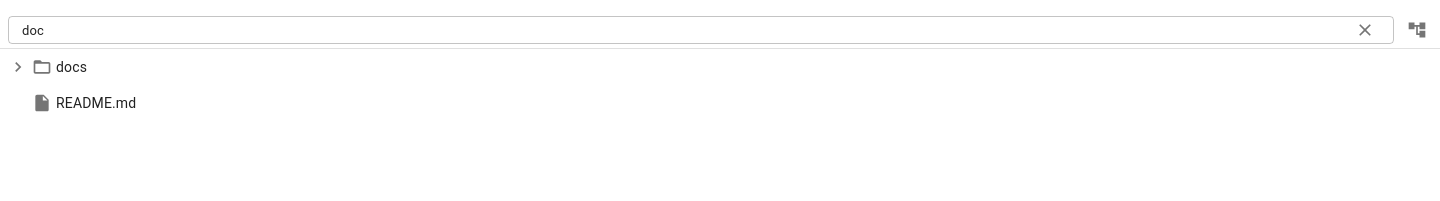
Test case: Sidebar › filter does not affect children of expanded dirs
Click the button with test id "sidebar-dir-docs": (48, 67) [8,57,87,77]
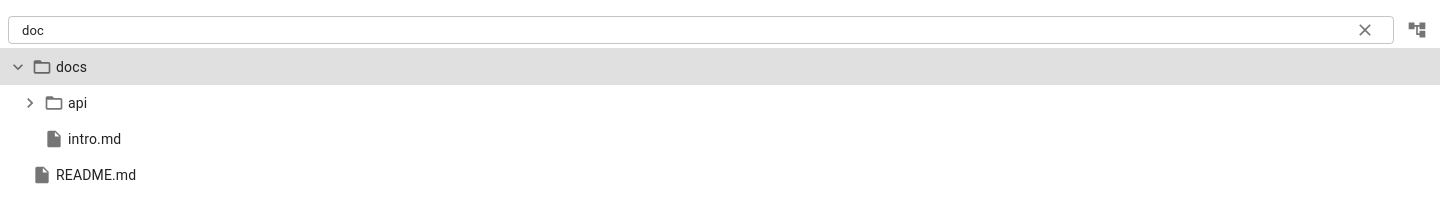
Now the button with test id "sidebar-file-docs/intro.md" is shown, box [44,129,121,149]
Now the button with test id "sidebar-dir-docs/api" is shown, box [20,93,87,113]
